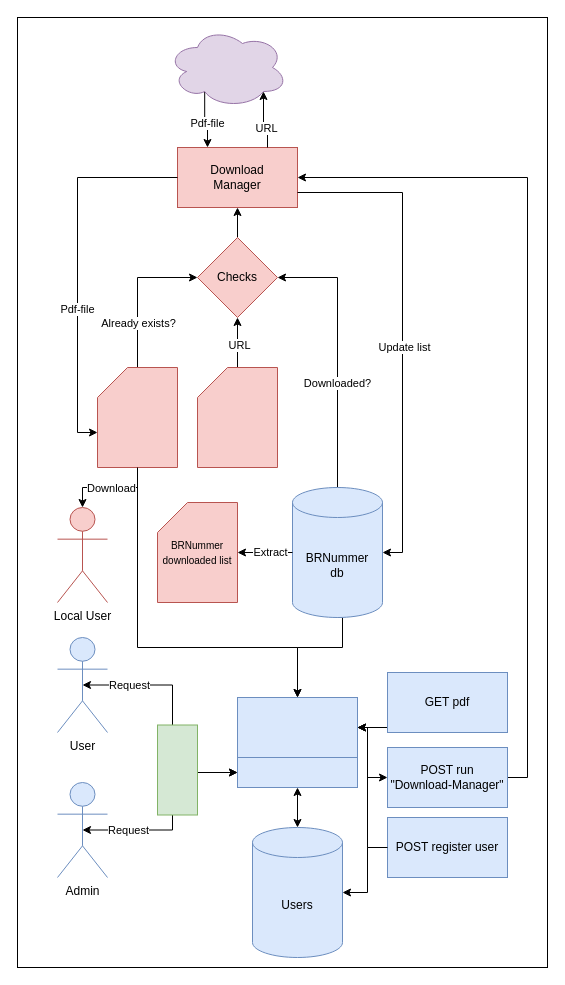
Some shapes in this 565 by 985 pixel diagram are drawn without their labels. Each missing label, with the centre of its shape:
"API" goes at point 297,727.
"AUTH" goes at point 297,772.
"Front-end" goes at point 177,769.
"GRI_2017_2020" goes at point 237,417.
"PDF-file folder (NAS)" goes at point 137,417.
"Web of pdf-files" goes at point 227,67.
